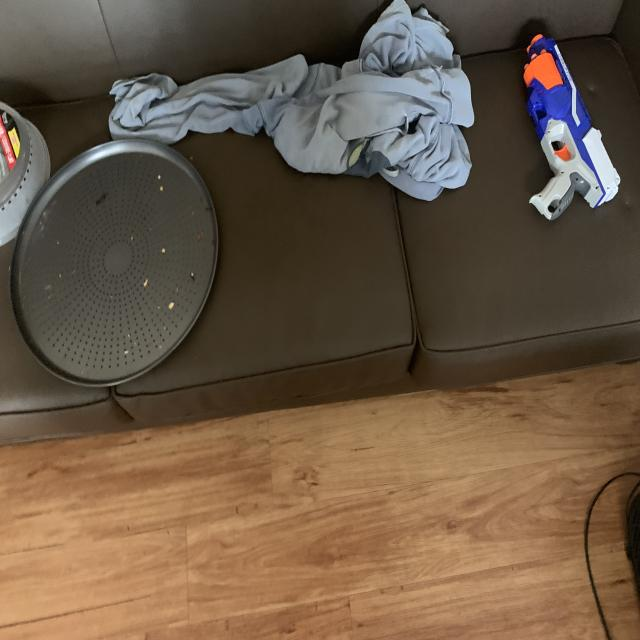nerf-maverik: (513, 25, 628, 243)
